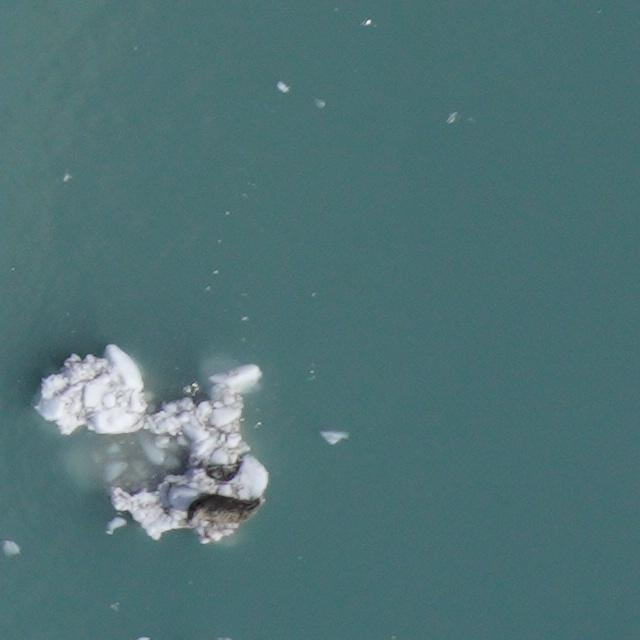seal: (185, 492, 269, 527), (203, 456, 251, 488)
